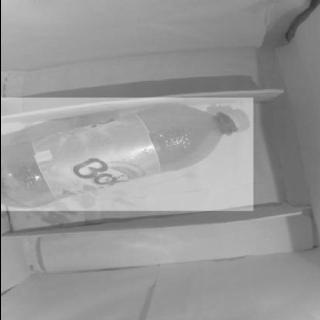plastic_bottles: (1, 98, 252, 211)
